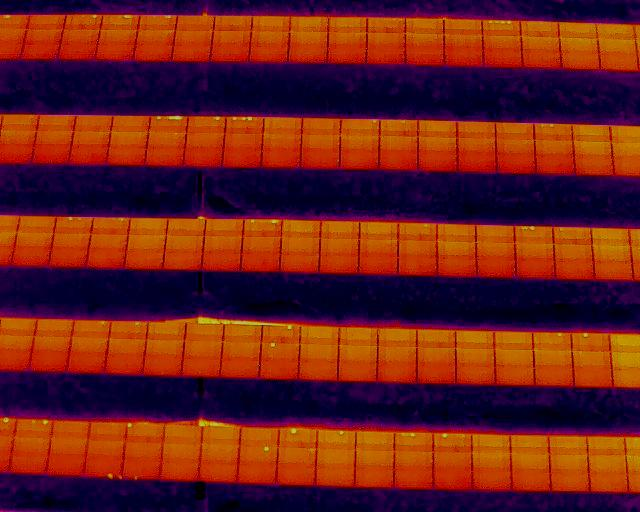Cell: (123, 455, 161, 479), (238, 444, 278, 464), (261, 342, 299, 361), (571, 334, 610, 351), (534, 333, 571, 350), (92, 217, 129, 234), (341, 120, 379, 136), (262, 326, 300, 342), (126, 423, 165, 438), (279, 429, 317, 444), (138, 15, 176, 30), (187, 116, 225, 131), (317, 429, 355, 443), (433, 433, 471, 447), (101, 15, 138, 29), (65, 15, 101, 29)
Cell-Multi: (84, 455, 122, 477), (515, 226, 553, 244), (243, 219, 281, 236), (16, 420, 53, 437), (55, 217, 92, 234), (394, 431, 433, 447), (534, 124, 572, 140), (225, 117, 262, 133), (483, 21, 520, 35)
No-Anomaly: (354, 465, 394, 489), (394, 467, 433, 491), (354, 445, 394, 468), (160, 456, 199, 479), (316, 464, 355, 486), (199, 459, 239, 480), (30, 144, 71, 164), (472, 452, 511, 473), (588, 454, 627, 475), (433, 468, 472, 489), (67, 144, 107, 164), (46, 455, 86, 475), (589, 473, 629, 493), (550, 454, 589, 474), (587, 436, 626, 456), (433, 448, 473, 467), (394, 447, 434, 466), (301, 150, 340, 169), (534, 368, 573, 387), (105, 355, 144, 374), (316, 445, 355, 464), (200, 439, 239, 458), (510, 436, 549, 455), (278, 444, 317, 463), (438, 257, 477, 276), (68, 354, 105, 374), (161, 439, 202, 457), (515, 260, 556, 278), (511, 455, 549, 474), (10, 454, 48, 473), (472, 472, 510, 491), (549, 435, 587, 454), (298, 345, 338, 363), (260, 361, 300, 379), (220, 359, 260, 377), (554, 244, 594, 262), (239, 464, 279, 482), (279, 464, 316, 483), (379, 137, 418, 155), (497, 156, 536, 174), (418, 154, 457, 172), (417, 331, 456, 349), (533, 351, 572, 369), (495, 366, 534, 384), (203, 236, 242, 254), (49, 250, 88, 268), (512, 473, 551, 491), (242, 236, 281, 254), (478, 259, 517, 277), (186, 324, 225, 342), (359, 255, 398, 273), (126, 235, 167, 252), (10, 248, 51, 265), (52, 420, 90, 438), (222, 149, 260, 167), (339, 346, 377, 364), (184, 342, 222, 360), (340, 136, 378, 154), (224, 324, 262, 342), (575, 156, 613, 174), (339, 328, 377, 346), (30, 353, 68, 371), (574, 368, 610, 387), (551, 473, 589, 491), (593, 245, 631, 263), (472, 434, 510, 452), (164, 252, 202, 270), (183, 149, 223, 166), (106, 147, 146, 164), (554, 263, 594, 280), (281, 238, 321, 255), (398, 240, 438, 257), (320, 255, 360, 272), (457, 366, 494, 384), (147, 323, 184, 341), (111, 322, 148, 340), (417, 366, 456, 383), (74, 116, 113, 133), (495, 123, 534, 140), (457, 157, 496, 174), (145, 148, 184, 165), (378, 330, 417, 347), (222, 342, 261, 359), (299, 362, 338, 379), (50, 438, 89, 455), (515, 244, 554, 261), (14, 232, 55, 248), (560, 52, 601, 68), (301, 327, 339, 344), (111, 116, 149, 133), (182, 359, 220, 376), (186, 131, 224, 148), (457, 140, 495, 157), (536, 156, 574, 173), (457, 332, 495, 349), (378, 348, 416, 365), (144, 357, 182, 374), (378, 366, 416, 383), (72, 321, 110, 338), (202, 254, 240, 271), (88, 251, 126, 268), (282, 221, 320, 238), (321, 221, 359, 238), (360, 222, 398, 239), (261, 150, 301, 166), (249, 47, 289, 63), (86, 439, 126, 455), (599, 52, 639, 68), (522, 52, 562, 68), (241, 255, 281, 271), (124, 252, 164, 268), (592, 228, 629, 245), (23, 29, 62, 45), (70, 338, 109, 354), (418, 122, 457, 138), (379, 120, 418, 136), (418, 138, 457, 154), (106, 340, 145, 356), (495, 349, 534, 365), (406, 18, 445, 34), (475, 226, 514, 242), (124, 438, 163, 454), (594, 264, 633, 280), (399, 258, 438, 274), (438, 241, 477, 257), (36, 321, 72, 338), (456, 350, 494, 366), (457, 123, 495, 139), (147, 132, 185, 148), (145, 341, 183, 357), (554, 227, 592, 243), (165, 235, 203, 251), (13, 438, 51, 454), (96, 44, 134, 60), (135, 46, 173, 62), (205, 219, 243, 235), (129, 218, 167, 234), (398, 223, 436, 239), (437, 224, 475, 240), (281, 255, 319, 271), (89, 422, 126, 438), (33, 338, 70, 354), (573, 351, 610, 367), (89, 234, 126, 250), (173, 45, 210, 61), (495, 333, 534, 348), (240, 428, 279, 443), (367, 33, 406, 48), (444, 35, 483, 50), (483, 36, 522, 51), (328, 32, 367, 47), (496, 141, 535, 156), (71, 132, 110, 147), (224, 134, 263, 149), (262, 135, 301, 150), (340, 155, 379, 170), (417, 349, 456, 364), (338, 365, 377, 380), (263, 120, 302, 135), (109, 132, 148, 147), (367, 48, 406, 63), (289, 47, 328, 62), (476, 243, 515, 258), (166, 220, 205, 235), (359, 240, 398, 255), (484, 51, 523, 66), (320, 239, 359, 254), (53, 234, 89, 250), (521, 36, 559, 51), (357, 431, 395, 446), (378, 155, 416, 170), (290, 32, 328, 47), (302, 119, 340, 134), (535, 141, 573, 156), (137, 30, 175, 45), (290, 17, 328, 32), (328, 48, 366, 63), (211, 46, 249, 61), (252, 16, 290, 31), (58, 45, 96, 60), (444, 20, 482, 35), (17, 216, 55, 231), (521, 22, 559, 37), (597, 24, 635, 39), (559, 22, 597, 37), (444, 51, 484, 65), (37, 116, 74, 131), (62, 29, 99, 44), (164, 426, 203, 440), (212, 31, 251, 45), (406, 35, 444, 49), (202, 427, 240, 441), (252, 32, 290, 46), (573, 126, 611, 140), (301, 135, 339, 149), (573, 141, 611, 155), (98, 30, 136, 44), (329, 18, 367, 32), (368, 18, 406, 32), (214, 16, 252, 30), (27, 15, 64, 29), (407, 49, 444, 63), (177, 16, 214, 30), (34, 131, 73, 144), (560, 38, 599, 51), (22, 46, 58, 60), (175, 31, 213, 44), (598, 39, 636, 52)
Unclassified: (149, 116, 187, 132)
